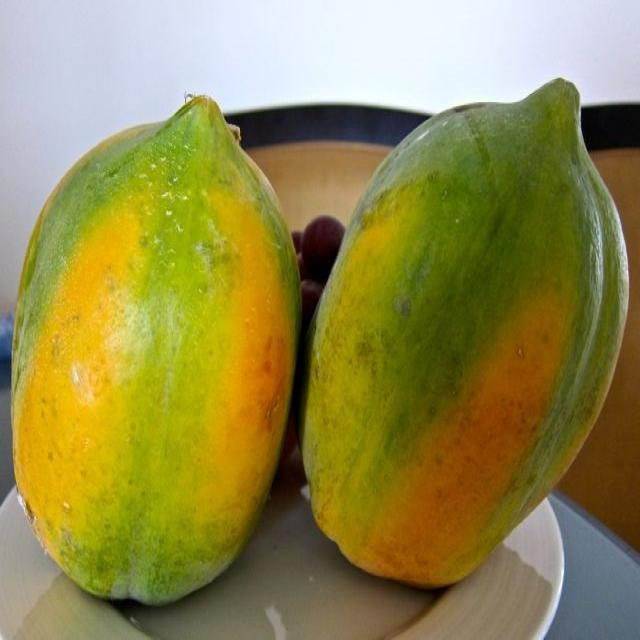Pepaya rippen: (306, 67, 616, 591), (6, 83, 306, 611)
